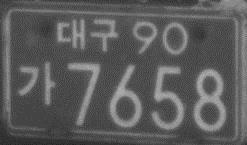0: (161, 20, 189, 58)
5: (150, 65, 185, 130)
6: (108, 63, 143, 128)
7: (63, 60, 103, 129)
8: (192, 67, 227, 131)
9: (131, 18, 158, 57)
가: (16, 58, 56, 106)
대구_O: (55, 15, 119, 54)
